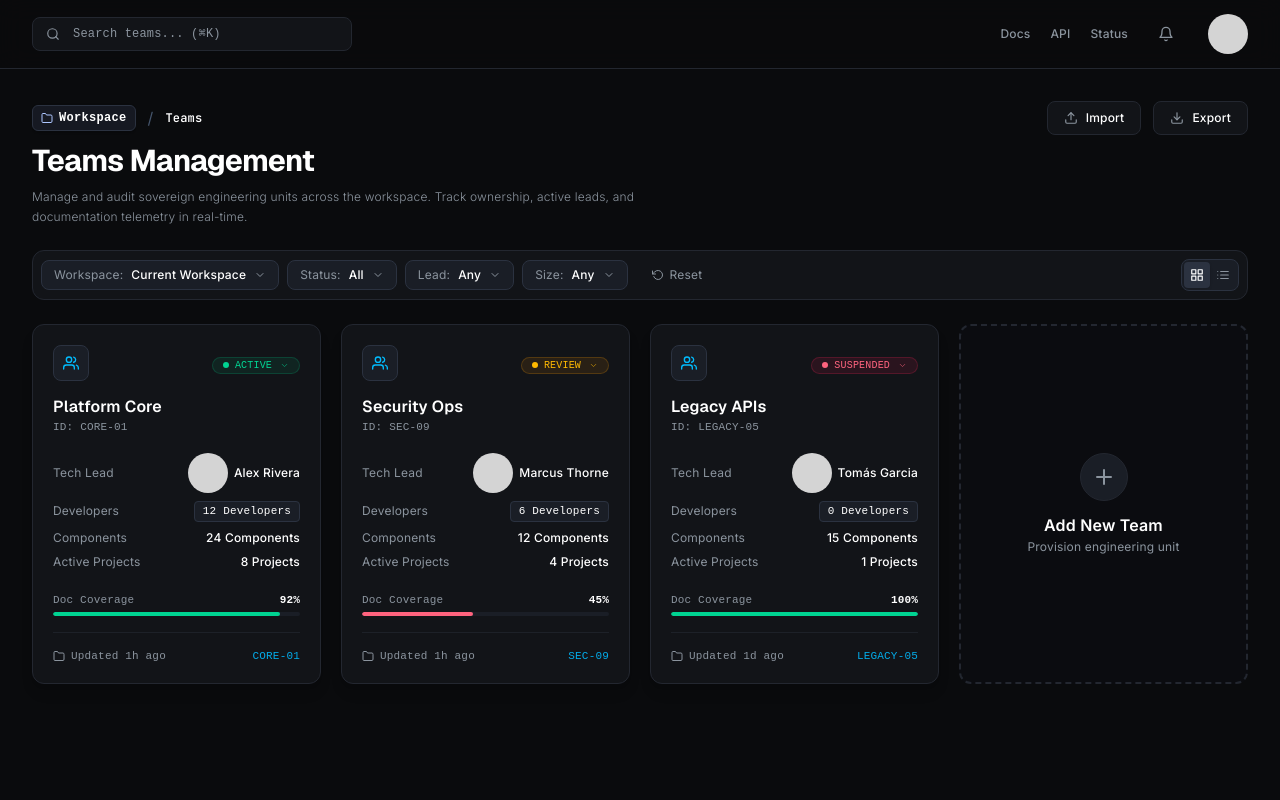
Scenario: Teams Management Center Integration Tests › toggles between Grid view and Table view
Expected: the heading "Platform Core" is shown, [53,396,162,417]
Switch to Table View
Click the button titled "Table View": click(1223, 275) [1210,262,1236,288]
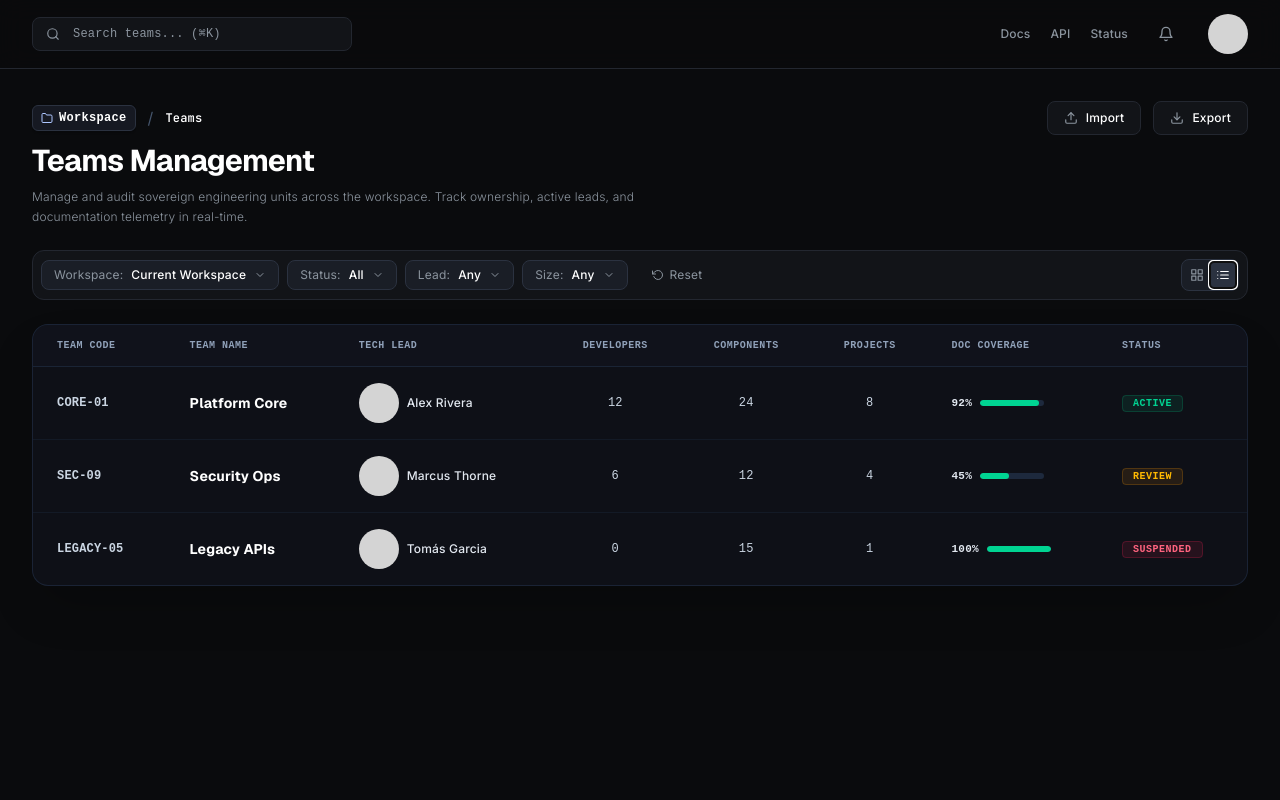
Expected: the column heading "Doc Coverage" is shown, [952,340,1030,351]
Expected: the column heading "Team Code" is shown, [57,340,116,351]
Expected: the column heading "Team Name" is shown, [190,340,248,351]
